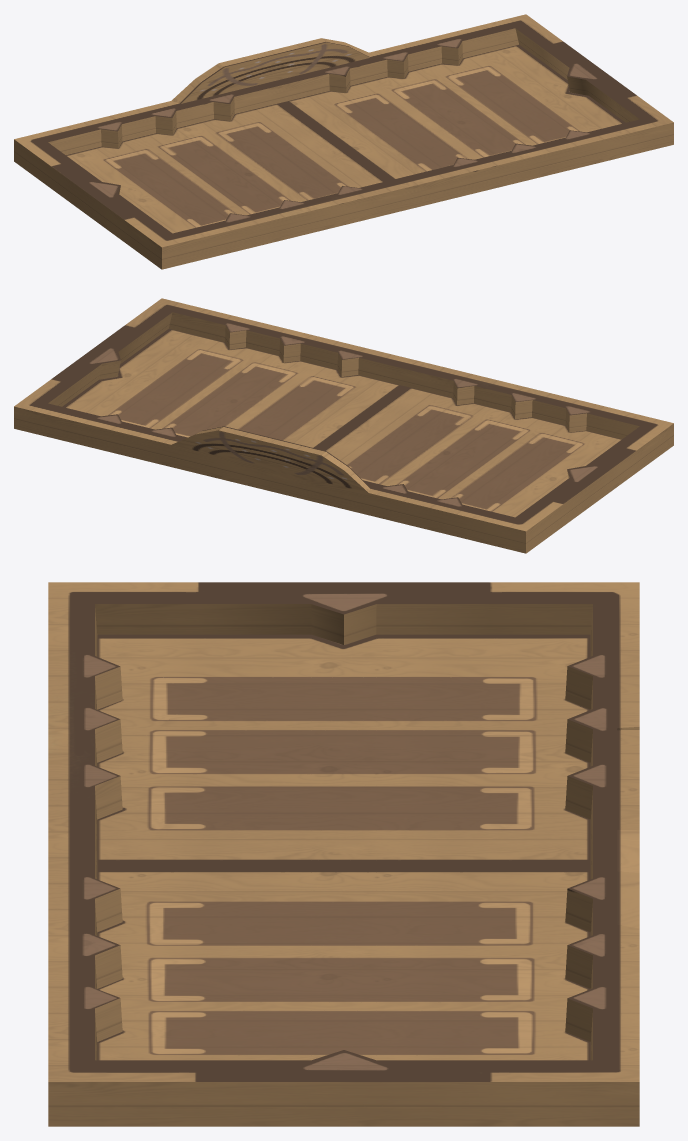
The model's file is game_table_2.fbx.
The picture shows the model from 3 angles, top to bottom: view 1: azimuth 30°, elevation 25°; view 2: azimuth 150°, elevation 25°; view 3: azimuth 270°, elevation 25°; orthographic projection. The views are drawn at different scales.
Parts seen in each view (by area): view 1: pCube1; view 2: pCube1; view 3: pCube1.
Part boxes in pixels (left/top/right/bottom): pCube1: left=14, top=14, right=673, bottom=269; pCube1: left=14, top=298, right=673, bottom=553; pCube1: left=48, top=582, right=639, bottom=1126.
Size of the model in its own units: 12 by 1.08 by 6.
Materials: 1 (1 with a texture image).
